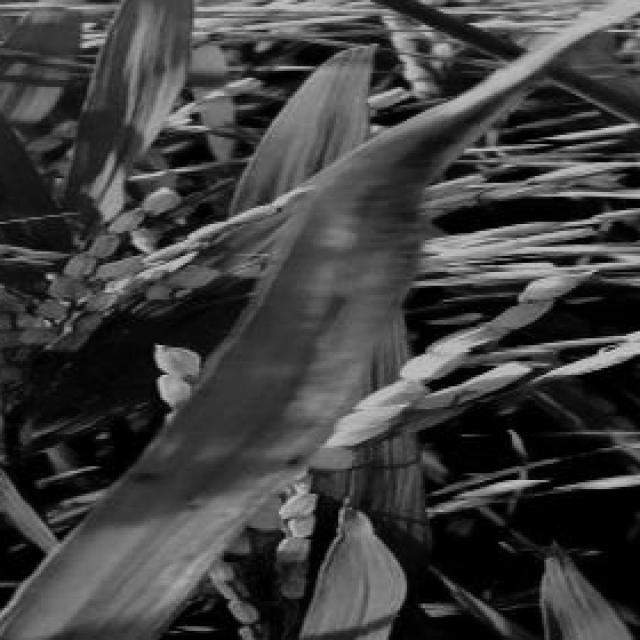Bacterial_Leaf_Blight: (217, 140, 416, 402)
